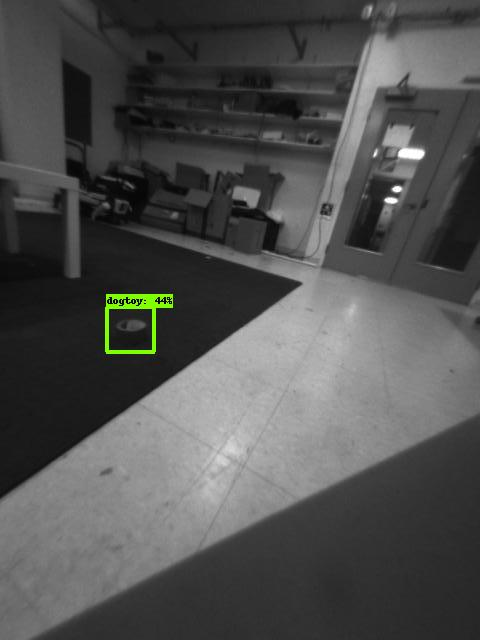dogtoy: (99, 312, 164, 347)
